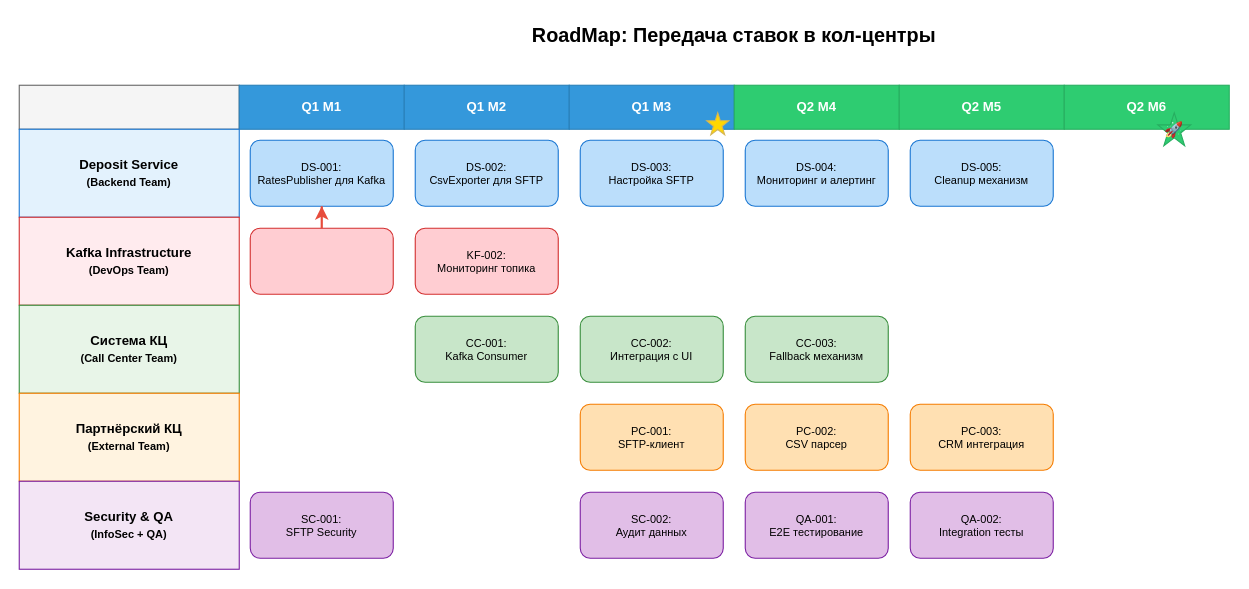
Some shapes in this 1249 by 589 pixel diagram are drawn without their labels. Each missing label, with the centre of its shape:
"KF-001: Создание topic rates.updates" goes at (321,260).
"M1" goes at (717,123).
"Система / Команда" goes at (128,106).
